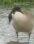goose: (5, 6, 34, 35)
